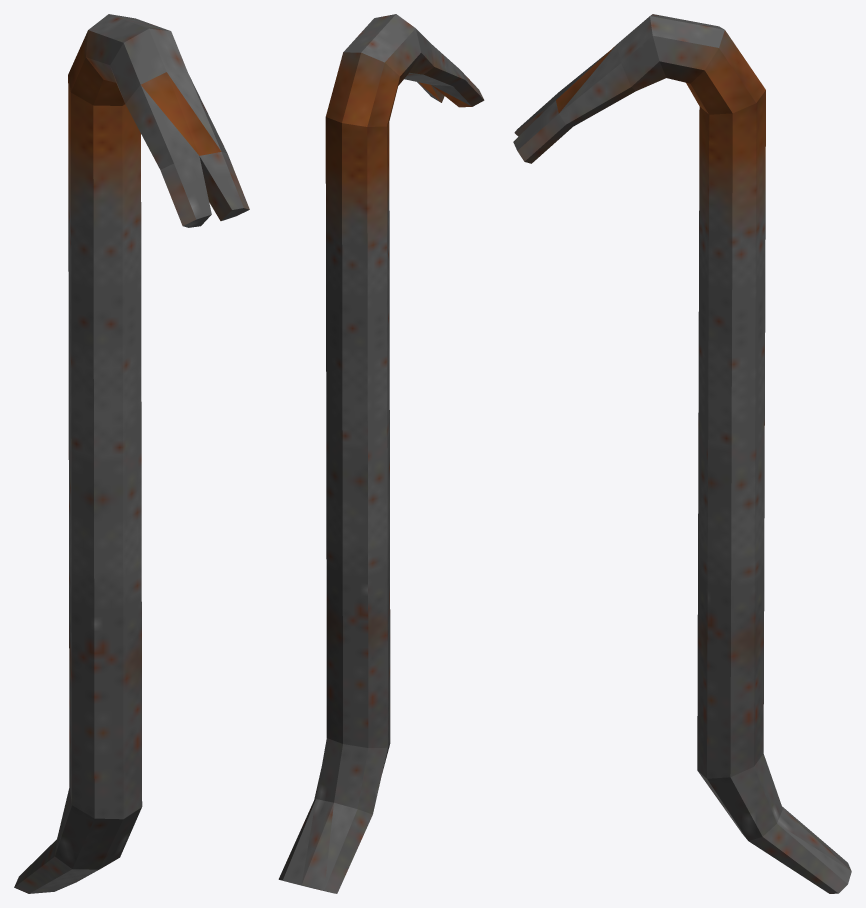
Rendered from Crowbar.fbx.
3 renders of one model, left to right at view 1: azimuth 30°, elevation 25°; view 2: azimuth 150°, elevation 25°; view 3: azimuth 270°, elevation 25°, orthographic. The views are drawn at different scales.
Parts seen in each view (by area): view 1: Crowbar; view 2: Crowbar; view 3: Crowbar.
Boxes of the visible parts, bbox=[...] form: Crowbar: bbox=[14, 14, 249, 893]; Crowbar: bbox=[278, 14, 484, 893]; Crowbar: bbox=[513, 14, 851, 893].
Bounding box in the file's own units: 0.0598 × 0.7916 × 0.2795.
Materials: 1 (1 with a texture image).
